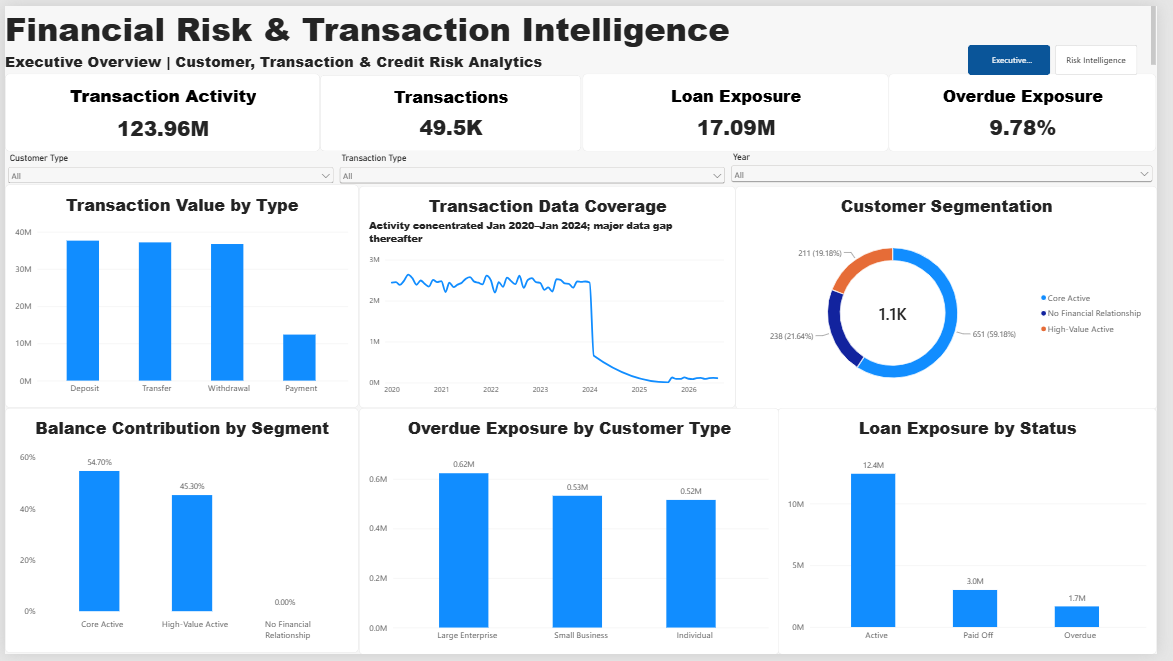

Layout of this report page (visuals, bound fields, positions):
{"tool":"powerbi","page":{"name":"Executive Overview","canvas":[1920,1080],"ordinal":0},"visuals":[{"type":"cardVisual","fields":{"Data":["financial_analytics fact_transactions.Total Transaction Value"]},"box":[0,112.5,525,130],"z":0},{"type":"cardVisual","fields":{"Data":["financial_analytics fact_transactions.Total Transactions"]},"box":[525,115,435,127.5],"z":1000},{"type":"cardVisual","fields":{"Data":["financial_analytics fact_loans.Total Loan Exposure"]},"box":[962.5,112.5,510,130],"z":2000},{"type":"cardVisual","fields":{"Data":["financial_analytics fact_loans.Overdue Exposure %"]},"box":[1472,112,446,130],"z":3000},{"type":"clusteredColumnChart","title":"Transaction Value by Type","fields":{"Category":["financial_analytics dim_transaction_type.TransactionType"],"Y":["financial_analytics fact_transactions.Total Transaction Value"]},"box":[0,298.2,589.3,372.2],"z":4000},{"type":"lineChart","title":"Transaction Data Coverage","fields":{"Category":["financial_analytics dim_date.FullDate.Variation.Date Hierarchy.Year","financial_analytics dim_date.FullDate.Variation.Date Hierarchy.Month"],"Y":["financial_analytics fact_transactions.Total Transaction Value"]},"box":[590,300,627.5,370],"z":5000},{"type":"donutChart","title":"Customer Segmentation","fields":{"Category":["customer_intelligence.CustomerSegment"],"Y":["CountNonNull(customer_intelligence.CustomerID)"]},"box":[1217.5,300,702.5,372.5],"z":6000},{"type":"clusteredColumnChart","title":"Balance Contribution by Segment","fields":{"Category":["customer_intelligence.CustomerSegment"],"Y":["customer_intelligence.Balance Share %"]},"box":[0,670.4,589.3,408],"z":7000},{"type":"clusteredColumnChart","title":"Loan Exposure by Status","fields":{"Category":["financial_analytics dim_loan_status.LoanStatus"],"Y":["financial_analytics fact_loans.Total Loan Exposure"]},"box":[1288.4,670.4,632.3,410.4],"z":8000},{"type":"clusteredColumnChart","title":"Overdue Exposure by Customer Type","fields":{"Category":["customer_intelligence.CustomerType"],"Y":["financial_analytics fact_loans.Overdue Loan Exposure"]},"box":[588.8,670,700,411.2],"z":9000},{"type":"textbox","box":[0,0,1918.3,112.1],"z":10000},{"type":"slicer","fields":{"Values":["account_risk_intelligence.CustomerType"]},"box":[0,245,552.5,50],"z":11000},{"type":"slicer","fields":{"Values":["financial_analytics dim_transaction_type.TransactionType"]},"box":[552.5,245,652.5,62.5],"z":12000},{"type":"slicer","fields":{"Values":["financial_analytics dim_date.Year"]},"box":[1206,242,712,66],"z":13000},{"type":"pageNavigator","box":[1605,65,282.5,50],"z":13001}]}

Visuals, with their boxes in screenshot pixels (x1, y1, x2, y2), scaled from the page's 1920x1080 canvas onto the 1173x661 screenshot:
cardVisual - financial_analytics fact_transactions.Total Transaction Value: [left=0, top=69, right=321, bottom=148]
cardVisual - financial_analytics fact_transactions.Total Transactions: [left=321, top=70, right=586, bottom=148]
cardVisual - financial_analytics fact_loans.Total Loan Exposure: [left=588, top=69, right=900, bottom=148]
cardVisual - financial_analytics fact_loans.Overdue Exposure %: [left=899, top=69, right=1172, bottom=148]
"Transaction Value by Type" clusteredColumnChart: [left=0, top=183, right=360, bottom=410]
"Transaction Data Coverage" lineChart: [left=360, top=184, right=744, bottom=410]
"Customer Segmentation" donutChart: [left=744, top=184, right=1172, bottom=412]
"Balance Contribution by Segment" clusteredColumnChart: [left=0, top=410, right=360, bottom=660]
"Loan Exposure by Status" clusteredColumnChart: [left=787, top=410, right=1172, bottom=660]
"Overdue Exposure by Customer Type" clusteredColumnChart: [left=360, top=410, right=787, bottom=660]
textbox: [left=0, top=0, right=1172, bottom=69]
slicer - account_risk_intelligence.CustomerType: [left=0, top=150, right=338, bottom=181]
slicer - financial_analytics dim_transaction_type.TransactionType: [left=338, top=150, right=736, bottom=188]
slicer - financial_analytics dim_date.Year: [left=737, top=148, right=1172, bottom=189]
pageNavigator: [left=981, top=40, right=1153, bottom=70]
